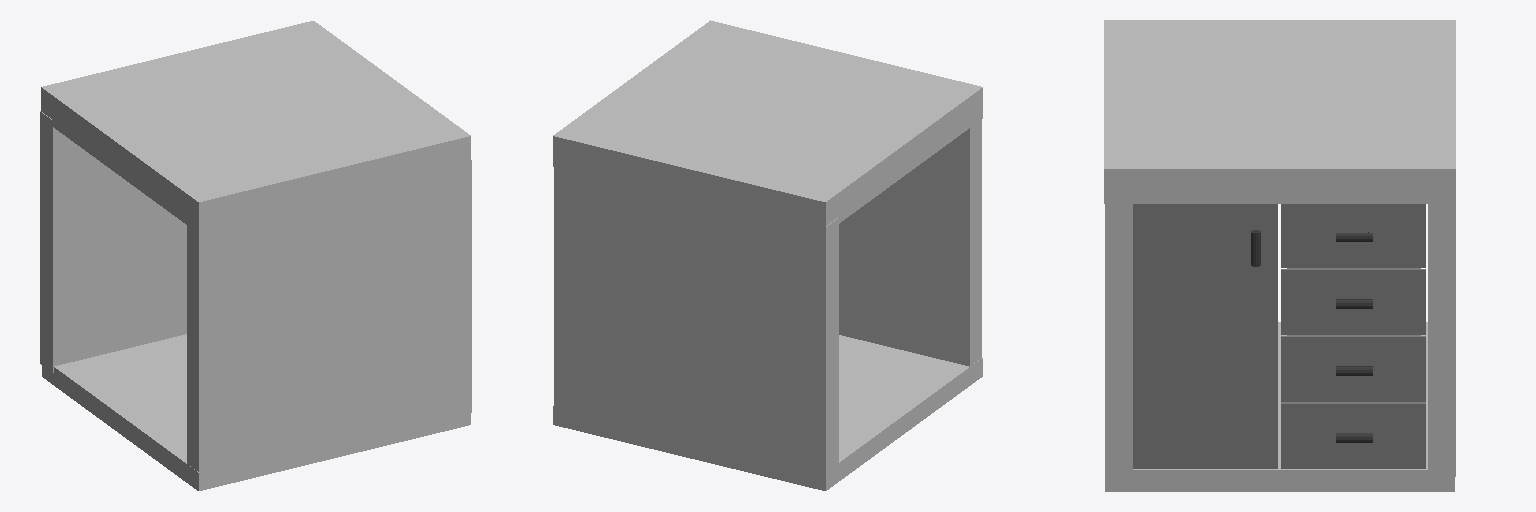
The robot description file, URDF, robot "my_urdf":
<?xml version='1.0' encoding='utf-8'?>
<robot name="my_urdf">
  
  <link name="base_link">
    <visual>
      <origin xyz="0 0 0" rpy="0.0 0.0 0.0" />
      <material name="white">
        <color rgba="0.8 0.8 0.8 1" />
      </material>
      <geometry>
        <mesh filename="../meshes/cabinet.obj" scale="1 1 1" />
      </geometry>
    </visual>
    <collision>
      <origin xyz="0 0 0" rpy="0.0 0.0 0.0" />
      <geometry>
        <mesh filename="../meshes/cabinet.obj" scale="1 1 1" />
      </geometry>
    </collision>
    <inertial>
      <mass value="1" />
      <inertia ixx="1e-4" ixy="0" ixz="0" iyy="1e-4" iyz="0" izz="1e-4" />
    </inertial>
  </link>

  <link name="drawer0">
    <visual>
      <origin xyz="0 0 0" rpy="0 0 0" />
        <material name="grey">
            <color rgba="0.55 0.55 0.55 1" />
        </material>
      <geometry>
        <mesh filename="../meshes/parts/drawer.obj" scale="1 1.98 0.98" />
      </geometry>
    </visual>
    <collision>
      <origin xyz="0 0 0" rpy="0 0 0" />
      <geometry>
        <mesh filename="../meshes/parts/drawer.obj" scale="1 1.98 0.98" />
      </geometry>
      <contact>
        <friction>
          <mu>0.8</mu>
          <mu2>0.8</mu2>
        </friction>
      </contact>
    </collision>
    <inertial>
      <mass value="0.2" />
      <inertia ixx="1e-4" ixy="0" ixz="0" iyy="1e-4" iyz="0" izz="1e-4" />
    </inertial>
  </link>

  <joint name="drawer0_to_base_link" type="prismatic">
    <axis xyz="1 0 0" />
    <limit effort="5" lower="0" upper="0.4" velocity="2.283" />
    <origin xyz="0 0.5 0.75" rpy="0.0 0.0 0.0" />
    <parent link="base_link" />
    <child link="drawer0" />
  </joint>

  <link name="drawer1">
    <visual>
      <origin xyz="0 0 0" rpy="0 0 0" />
        <material name="grey">
            <color rgba="0.55 0.55 0.55 1" />
        </material>
      <geometry>
        <mesh filename="../meshes/parts/drawer.obj" scale="1 1.98 0.98" />
      </geometry>
    </visual>
    <collision>
      <origin xyz="0 0 0" rpy="0 0 0" />
      <geometry>
        <mesh filename="../meshes/parts/drawer.obj" scale="1 1.98 0.98" />
      </geometry>
      <contact>
        <friction>
          <mu>0.8</mu>
          <mu2>0.8</mu2>
        </friction>
      </contact>
    </collision>
    <inertial>
      <mass value="0.2" />
      <inertia ixx="1e-4" ixy="0" ixz="0" iyy="1e-4" iyz="0" izz="1e-4" />
    </inertial>
  </link>

  <joint name="drawer1_to_base_link" type="prismatic">
    <axis xyz="1 0 0" />
    <limit effort="5" lower="0" upper="0.4" velocity="2.283" />
    <origin xyz="0 0.5 0.5" rpy="0.0 0.0 0.0" />
    <parent link="base_link" />
    <child link="drawer1" />

  </joint>

  <link name="drawer2">
    <visual>
      <origin xyz="0 0 0" rpy="0 0 0" />
           <material name="grey">
                <color rgba="0.55 0.55 0.55 1" />
            </material>
      <geometry>
        <mesh filename="../meshes/parts/drawer.obj" scale="1 1.98 0.98" />
      </geometry>
    </visual>
    <collision>
      <origin xyz="0 0 0" rpy="0 0 0" />
      <geometry>
        <mesh filename="../meshes/parts/drawer.obj" scale="1 1.98 0.98" />
      </geometry>
      <contact>
        <friction>
          <mu>0.8</mu>
          <mu2>0.8</mu2>
        </friction>
      </contact>
    </collision>
    <inertial>
      <mass value="0.2" />
      <inertia ixx="1e-4" ixy="0" ixz="0" iyy="1e-4" iyz="0" izz="1e-4" />
    </inertial>
  </link>

  <joint name="drawer2_to_base_link" type="prismatic">
    <axis xyz="1 0 0" />
    <limit effort="5" lower="0" upper="0.4" velocity="2.283" />
    <origin xyz="0 0.5 0.25" rpy="0.0 0.0 0.0" />
    <parent link="base_link" />
    <child link="drawer2" />

  </joint>

  <link name="drawer3">
    <visual>
      <origin xyz="0 0 0" rpy="0 0 0" />
           <material name="grey">
                <color rgba="0.55 0.55 0.55 1" />
            </material>
      <geometry>
        <mesh filename="../meshes/parts/drawer.obj" scale="1 1.98 0.98" />
      </geometry>
    </visual>
    <collision>
      <origin xyz="0 0 0" rpy="0 0 0" />
      <geometry>
        <mesh filename="../meshes/parts/drawer.obj" scale="1 1.98 0.98" />
      </geometry>
      <contact>
        <friction>
          <mu>0.8</mu>
          <mu2>0.8</mu2>
        </friction>
      </contact>
    </collision>
    <inertial>
      <mass value="0.2" />
      <inertia ixx="1e-4" ixy="0" ixz="0" iyy="1e-4" iyz="0" izz="1e-4" />
    </inertial>
  </link>

  <joint name="drawer3_to_base_link" type="prismatic">
    <axis xyz="1 0 0" />
    <limit effort="5" lower="0" upper="0.4" velocity="2.283" />
    <origin xyz="0 0.5 0.0" rpy="0.0 0.0 0.0" />
    <parent link="base_link" />
    <child link="drawer3" />

  </joint>

  <link name="doorL4">
    <visual>
      <origin xyz="0 0 0" rpy="0 0 0" />
           <material name="grey">
                <color rgba="0.55 0.55 0.55 1" />
            </material>
      <geometry>
        <mesh filename="../meshes/parts/doorL.obj" scale="1 1.99 3.99" />
      </geometry>
    </visual>
    <collision>
      <origin xyz="0 0 0" rpy="0 0 0" />
      <geometry>
        <mesh filename="../meshes/parts/doorL.obj" scale="1 1.99 3.99" />
      </geometry>
    </collision>
    <inertial>
      <mass value="0.2" />
      <inertia ixx="1e-4" ixy="0" ixz="0" iyy="1e-4" iyz="0" izz="1e-4" />
    </inertial>
  </link>

  <joint name="doorL4_to_base_link" type="revolute">
    <axis xyz="0 0 1" />
    <limit effort="5" lower="-1.57" upper="0" velocity="2.283" />
    <origin xyz="0 0.0 0.0" rpy="0.0 0.0 0.0" />
    <parent link="base_link" />
    <child link="doorL4" />

  </joint>

  <link name="handle5">
    <visual>
      <origin xyz="0 0 0" rpy="0 0 0" />
            <material name="dark grey"><color rgba="0.3 0.3 0.3 1"/></material>

      <geometry>
        <mesh filename="../meshes/parts/handle.obj" scale="1 1 1" />
      </geometry>
    </visual>
    <collision>
      <origin xyz="0.06 0 0" rpy="0 0 0" />
      <geometry>
        <mesh filename="../meshes/parts/handle.obj" scale="1 1 1" />
      </geometry>
      <contact>
        <friction>
          <mu>0.8</mu>
          <mu2>0.8</mu2>
        </friction>
      </contact>
    </collision>
    <inertial>
      <mass value="0.2" />
      <inertia ixx="1e-4" ixy="0" ixz="0" iyy="1e-4" iyz="0" izz="1e-4" />
    </inertial>
  </link>

  <joint name="handle5_to_drawer0" type="fixed">
    <axis xyz="0 0 1" />
    <limit effort="5" lower="-1.57" upper="0" velocity="2.283" />
    <origin xyz="0 0.25 0.125" rpy="1.5707963267948963 0.0 0.0" />
    <parent link="drawer0" />
    <child link="handle5" />
  </joint>

  <link name="handle6">
    <visual>
      <origin xyz="0 0 0" rpy="0 0 0" />
            <material name="dark grey"><color rgba="0.3 0.3 0.3 1"/></material>

      <geometry>
        <mesh filename="../meshes/parts/handle.obj" scale="1 1 1" />
      </geometry>
    </visual>
    <collision>
      <origin xyz="0.06 0 0" rpy="0 0 0" />
      <geometry>
        <mesh filename="../meshes/parts/handle.obj" scale="1 1 1" />
      </geometry>
      <contact>
        <friction>
          <mu>0.8</mu>
          <mu2>0.8</mu2>
        </friction>
      </contact>
    </collision>
    <inertial>
      <mass value="0.2" />
      <inertia ixx="1e-4" ixy="0" ixz="0" iyy="1e-4" iyz="0" izz="1e-4" />
    </inertial>
  </link>

  <joint name="handle6_to_drawer1" type="fixed">
    <axis xyz="0 0 1" />
    <limit effort="5" lower="-1.57" upper="0" velocity="2.283" />
    <origin xyz="0 0.25 0.125" rpy="1.5707963267948963 0.0 0.0" />
    <parent link="drawer1" />
    <child link="handle6" />
  </joint>

  <link name="handle7">
    <visual>
      <origin xyz="0 0 0" rpy="0 0 0" />
            <material name="dark grey"><color rgba="0.3 0.3 0.3 1"/></material>

      <geometry>
        <mesh filename="../meshes/parts/handle.obj" scale="1 1 1" />
      </geometry>
    </visual>
    <collision>
      <origin xyz="0.06 0 0" rpy="0 0 0" />
      <geometry>
        <mesh filename="../meshes/parts/handle.obj" scale="1 1 1" />
      </geometry>
      <contact>
        <friction>
          <mu>0.8</mu>
          <mu2>0.8</mu2>
        </friction>
      </contact>
    </collision>
    <inertial>
      <mass value="0.2" />
      <inertia ixx="1e-4" ixy="0" ixz="0" iyy="1e-4" iyz="0" izz="1e-4" />
    </inertial>
  </link>

  <joint name="handle7_to_drawer2" type="fixed">
    <axis xyz="0 0 1" />
    <limit effort="5" lower="-1.57" upper="0" velocity="2.283" />
    <origin xyz="0 0.25 0.125" rpy="1.5707963267948963 0.0 0.0" />
    <parent link="drawer2" />
    <child link="handle7" />
  </joint>

  <link name="handle8">
    <visual>
      <origin xyz="0 0 0" rpy="0 0 0" />
            <material name="dark grey"><color rgba="0.3 0.3 0.3 1"/></material>

      <geometry>
        <mesh filename="../meshes/parts/handle.obj" scale="1 1 1" />
      </geometry>
    </visual>
    <collision>
      <origin xyz="0.06 0 0" rpy="0 0 0" />
      <geometry>
        <mesh filename="../meshes/parts/handle.obj" scale="1 1 1" />
      </geometry>
      <contact>
        <friction>
          <mu>0.8</mu>
          <mu2>0.8</mu2>
        </friction>
      </contact>
    </collision>
    <inertial>
      <mass value="0.2" />
      <inertia ixx="1e-4" ixy="0" ixz="0" iyy="1e-4" iyz="0" izz="1e-4" />
    </inertial>
  </link>

  <joint name="handle8_to_drawer3" type="fixed">
    <axis xyz="0 0 1" />
    <limit effort="5" lower="-1.57" upper="0" velocity="2.283" />
    <origin xyz="0 0.25 0.125" rpy="1.5707963267948963 0.0 0.0" />
    <parent link="drawer3" />
    <child link="handle8" />
  </joint>

  <link name="handle9">
    <visual>
      <origin xyz="0 0 0" rpy="0 0 0" />
            <material name="dark grey"><color rgba="0.3 0.3 0.3 1"/></material>

      <geometry>
        <mesh filename="../meshes/parts/handle.obj" scale="1 1 1" />
      </geometry>
    </visual>
    <collision>
      <origin xyz="0.06 0 0" rpy="0 0 0" />
      <geometry>
        <mesh filename="../meshes/parts/handle.obj" scale="1 1 1" />
      </geometry>
      <contact>
        <friction>
          <mu>0.8</mu>
          <mu2>0.8</mu2>
        </friction>
      </contact>
    </collision>
    <inertial>
      <mass value="0.2" />
      <inertia ixx="1e-4" ixy="0" ixz="0" iyy="1e-4" iyz="0" izz="1e-4" />
    </inertial>
  </link>

  <joint name="handle9_to_doorL4" type="fixed">
    <axis xyz="1 0 0" />
    <limit effort="5" lower="-1.57" upper="0" velocity="2.283" />
    <origin xyz="0 0.4166666666666667 0.8333333333333334" rpy="0.0 0.0 0.0" />
    <parent link="doorL4" />
    <child link="handle9" />
  </joint>

</robot>

--- What the picture shows (computed from the rendered views, not written in the file) ---
Views: 3 orthographic renders of the robot side by side, from view 1: azimuth 30°, elevation 25°; view 2: azimuth 150°, elevation 25°; view 3: azimuth 270°, elevation 25°.
Robot: my_urdf — 11 links, 10 joints (1 revolute, 4 prismatic, 5 fixed); root link base_link; default pose: every joint at zero.
Visible links, largest first — view 1: base_link; view 2: base_link; view 3: base_link, doorL4, drawer3, drawer1, drawer2, drawer0.
Boxes of the visible links, <box> form: base_link: <box>40,21,471,490</box>; base_link: <box>553,20,982,490</box>; base_link: <box>1104,20,1455,491</box>; doorL4: <box>1133,204,1277,468</box>; drawer3: <box>1281,402,1425,468</box>; drawer1: <box>1281,268,1425,334</box>; drawer2: <box>1281,335,1425,401</box>; drawer0: <box>1281,204,1425,267</box>.
Bounding box of the posed robot: 1.22 × 1.19 × 1.21 m (x, y, z).
11 mesh visuals loaded from 4 distinct referenced files (4 OBJ).